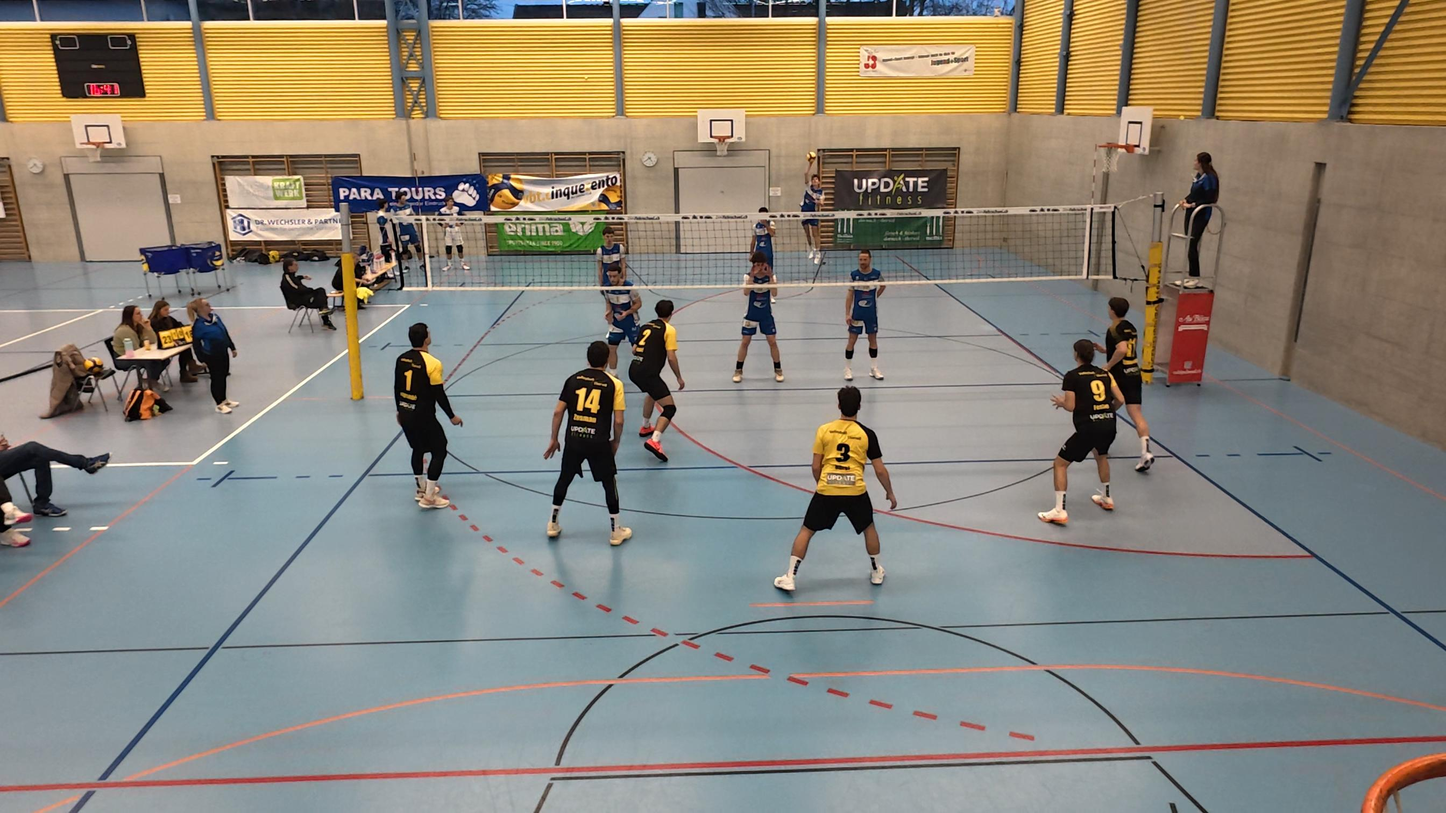Player: (775, 389, 897, 593), (545, 340, 632, 545), (1040, 339, 1120, 524), (393, 324, 461, 510), (1107, 299, 1162, 473), (627, 298, 683, 460), (729, 261, 784, 385), (842, 250, 887, 383), (602, 272, 640, 377), (747, 208, 778, 277), (593, 226, 629, 277)
Serve: (792, 149, 829, 267)
ball: (805, 152, 818, 162)
